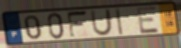0: (46, 11, 66, 40), (23, 14, 44, 41)
E: (135, 5, 161, 35)
F: (66, 9, 90, 40)
I: (114, 7, 125, 37)
U: (89, 8, 114, 37)
